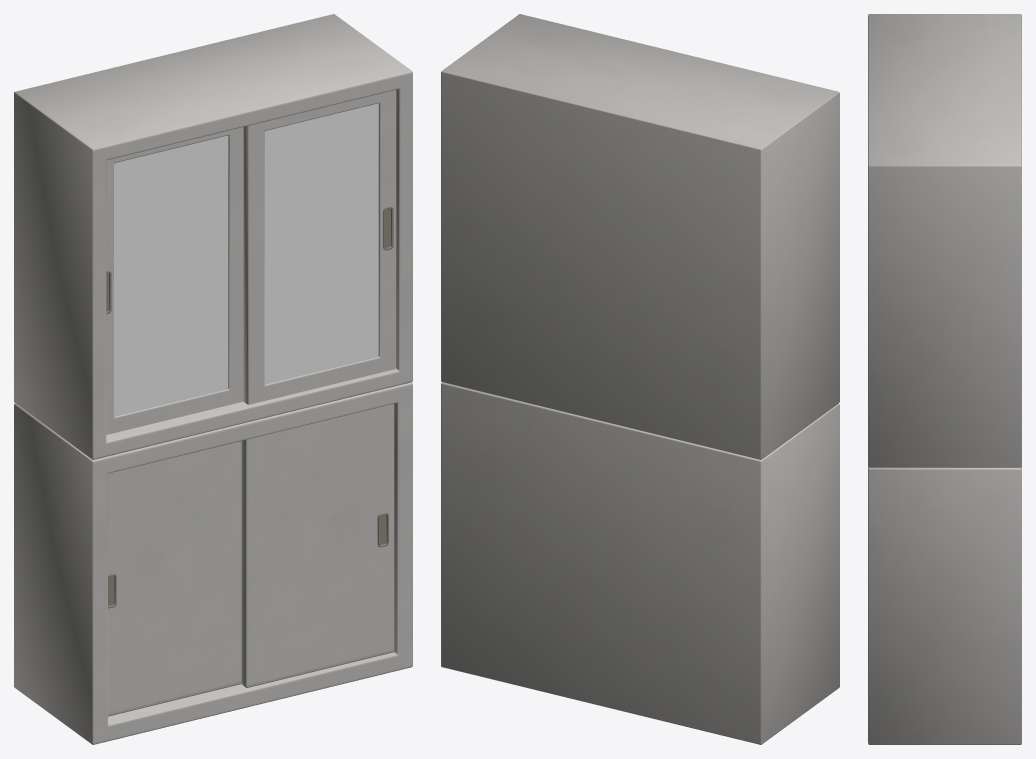
File: Shelf_A.fbx
3 views of the same model, side by side, from view 1: azimuth 30°, elevation 25°; view 2: azimuth 150°, elevation 25°; view 3: azimuth 270°, elevation 25° (orthographic). The views are drawn at different scales.
Visible parts, largest first — view 1: Shelf_A; view 2: Shelf_A; view 3: Shelf_A.
Boxes of the visible parts, x1,y1,x2,y2 form: Shelf_A: (14, 14, 412, 744); Shelf_A: (441, 14, 839, 744); Shelf_A: (868, 14, 1021, 744).
Size of the model in its own units: 1.54 by 2.74 by 0.659.
